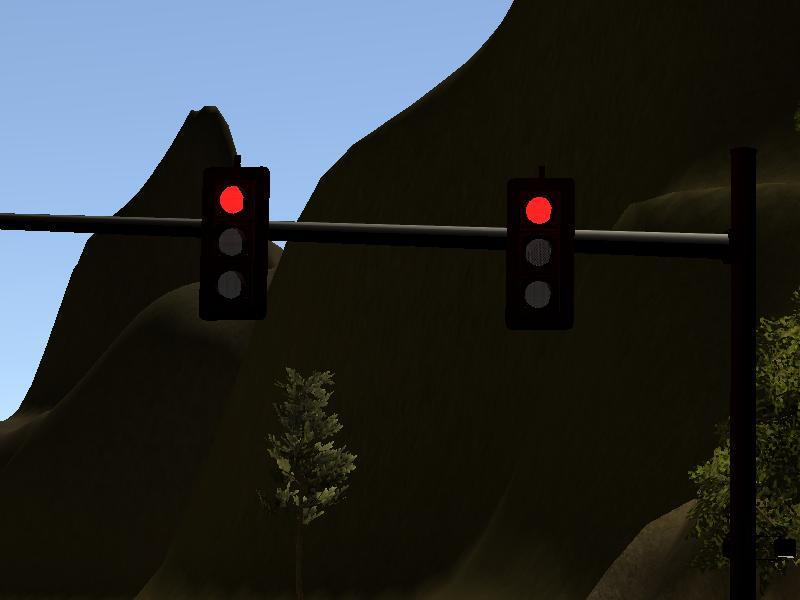Red: (197, 166, 270, 320), (503, 176, 576, 330)
